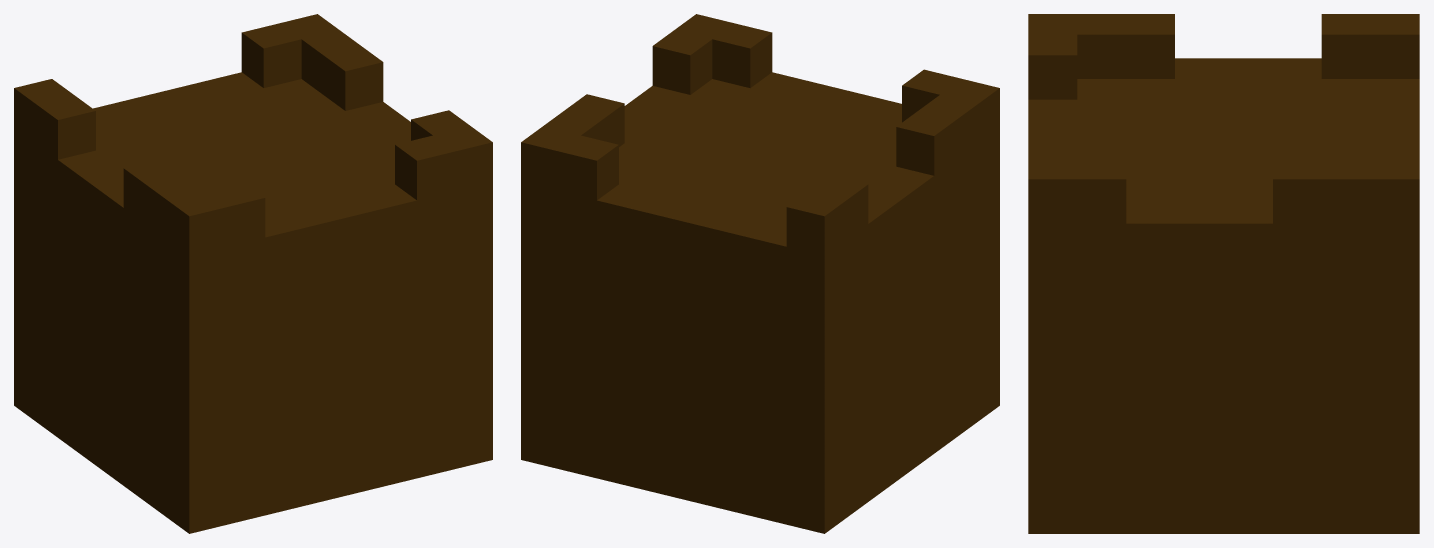
The model's file is Path.obj.
3 views of the same model, side by side, from view 1: azimuth 30°, elevation 25°; view 2: azimuth 150°, elevation 25°; view 3: azimuth 270°, elevation 25° (orthographic). The views are drawn at different scales.
Size of the model in its own units: 0.8 by 0.8 by 0.8.
Materials: 1 (1 with a texture image).
